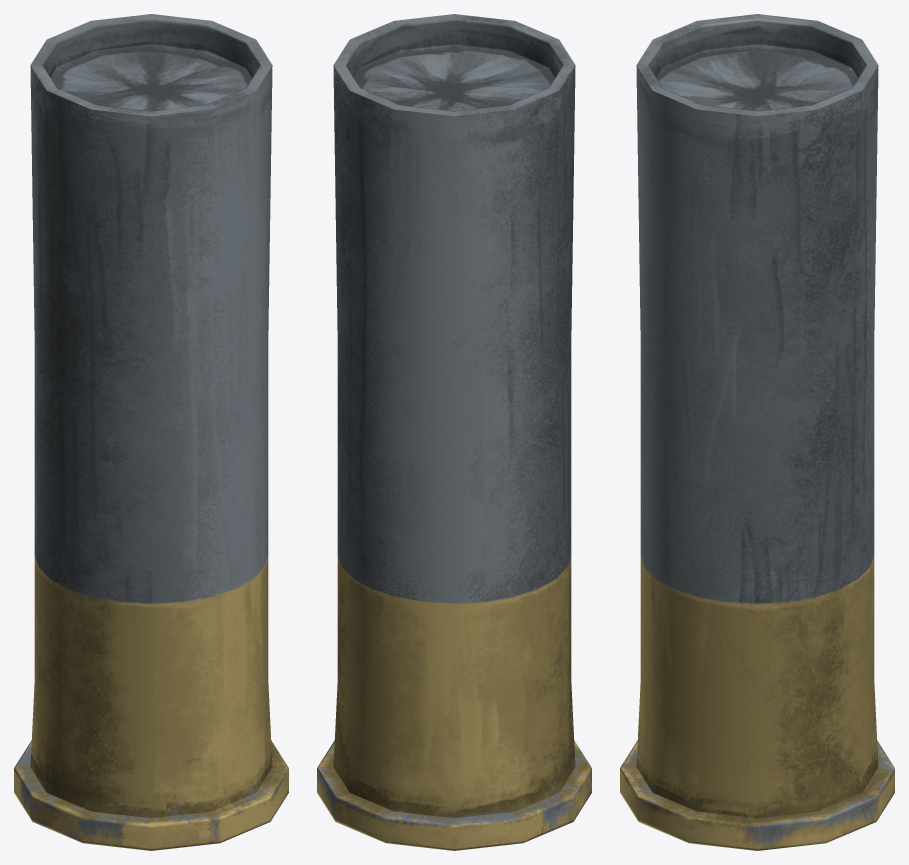
File: ShotgunScrapshotShell.fbx
3 views of the same model, side by side, from view 1: azimuth 30°, elevation 25°; view 2: azimuth 150°, elevation 25°; view 3: azimuth 270°, elevation 25° (orthographic).
Parts seen in each view (by area): view 1: ShotgunScrapshotShell; view 2: ShotgunScrapshotShell; view 3: ShotgunScrapshotShell.
Boxes of the visible parts, x1,y1,x2,y2 form: ShotgunScrapshotShell: (14,14,288,850); ShotgunScrapshotShell: (317,14,591,850); ShotgunScrapshotShell: (620,14,894,850).
Size of the model in its own units: 4.36 by 12.76 by 4.36.
Materials: 1 (1 with a texture image).
